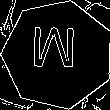M_S: (34, 29, 81, 80)
